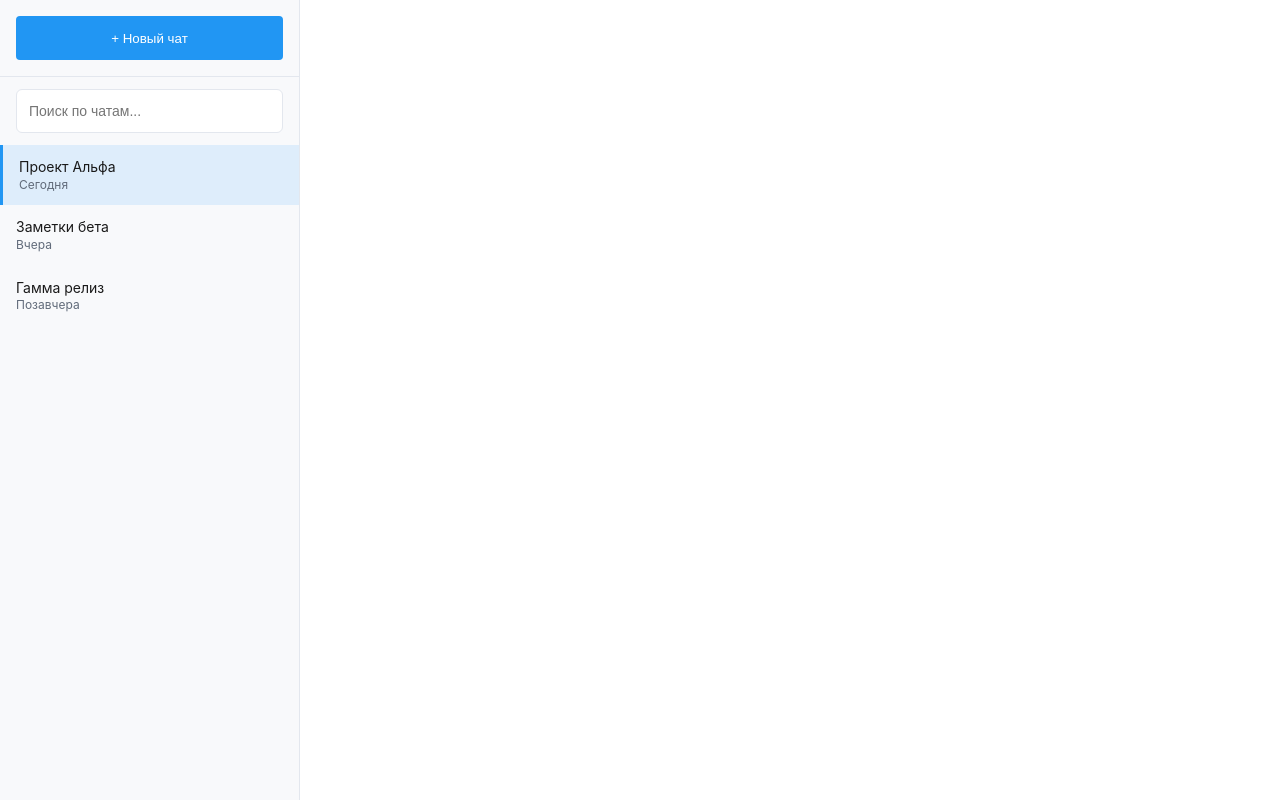
Test: Sidebar › по кнопке «Удалить» открывается подтверждение
Hover over the button "Проект Альфа Сегодня" at point(67, 166), box [0,145,299,205]
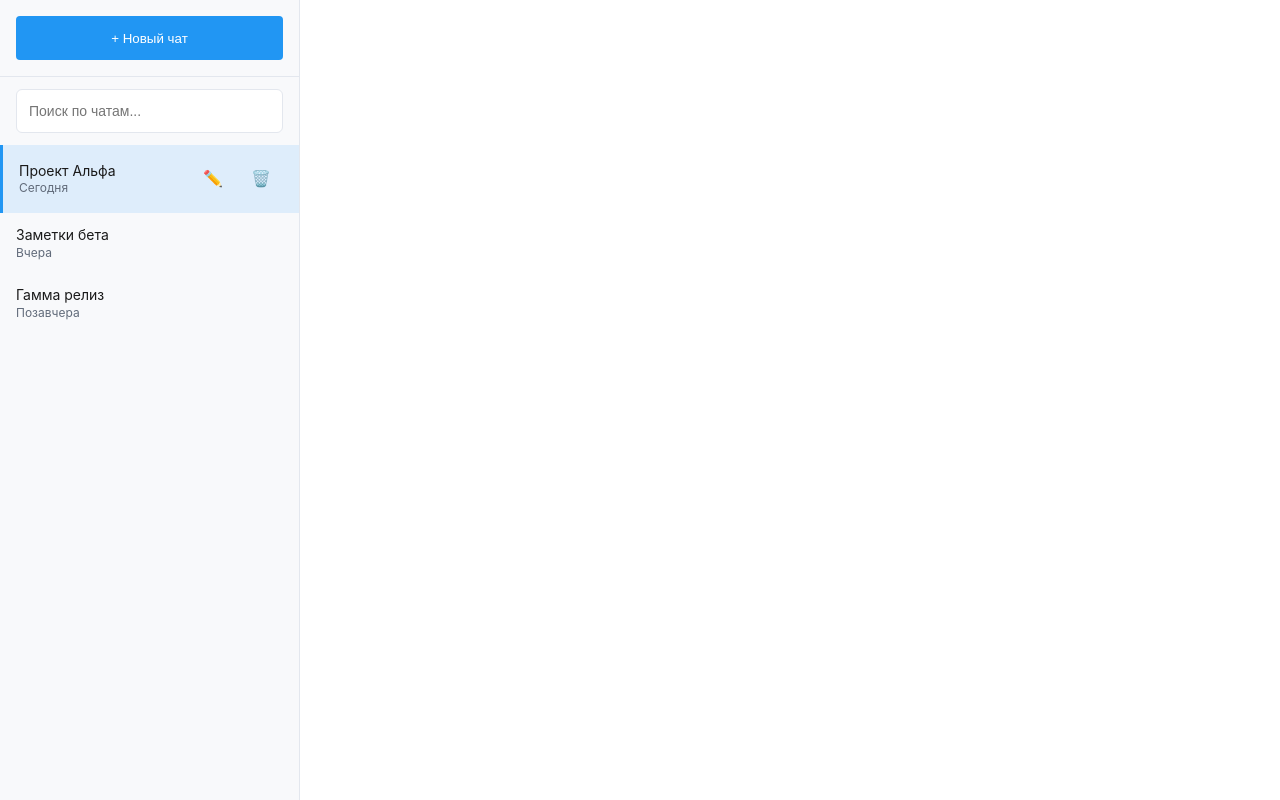
Click the button named "Удалить чат «Проект Альфа»" at point(261, 179), box [239,157,283,201]
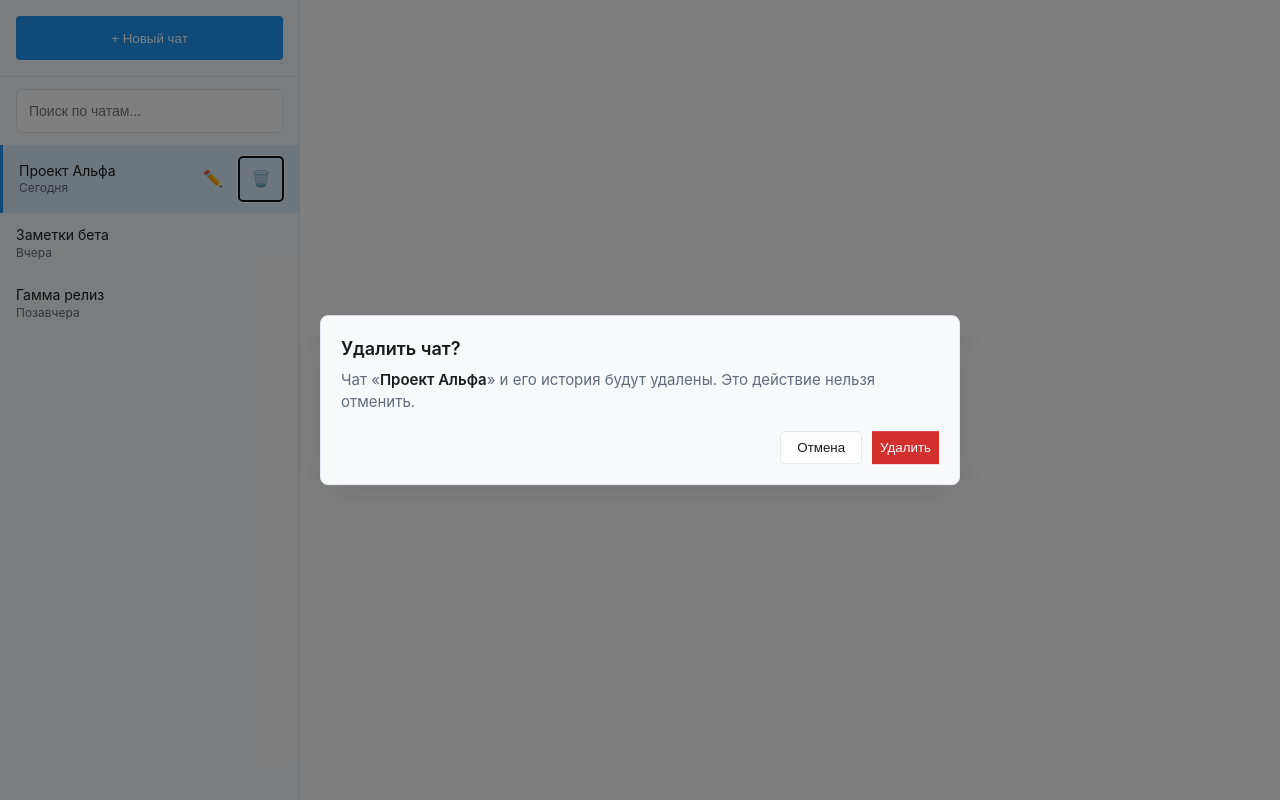
Result: the heading "Удалить чат?" is shown at [341,338,460,359]
